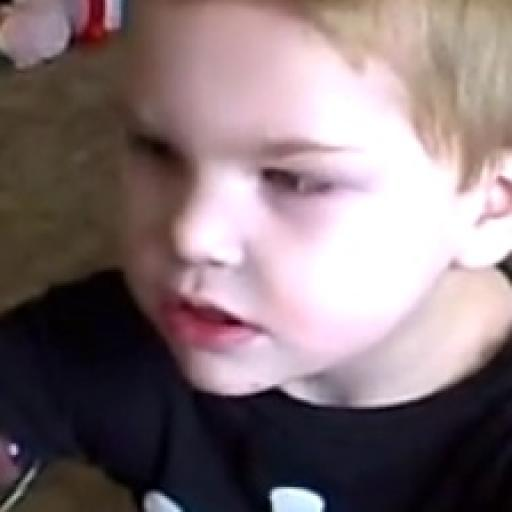Autism: (67, 11, 512, 441)
